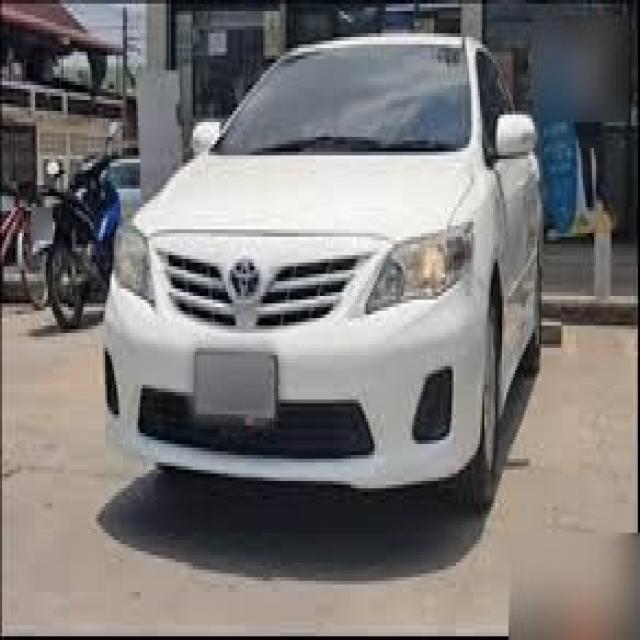back_left_door: (485, 48, 537, 350)
front_bumper: (104, 234, 490, 481)
front_glass: (208, 43, 471, 151)
front_left_door: (476, 45, 527, 391)
front_right_light: (114, 218, 476, 317)
hood: (131, 142, 472, 244)
left_mirror: (487, 112, 536, 172)
right_mirror: (187, 121, 221, 159)
wheel: (453, 302, 498, 509), (515, 253, 541, 377)
